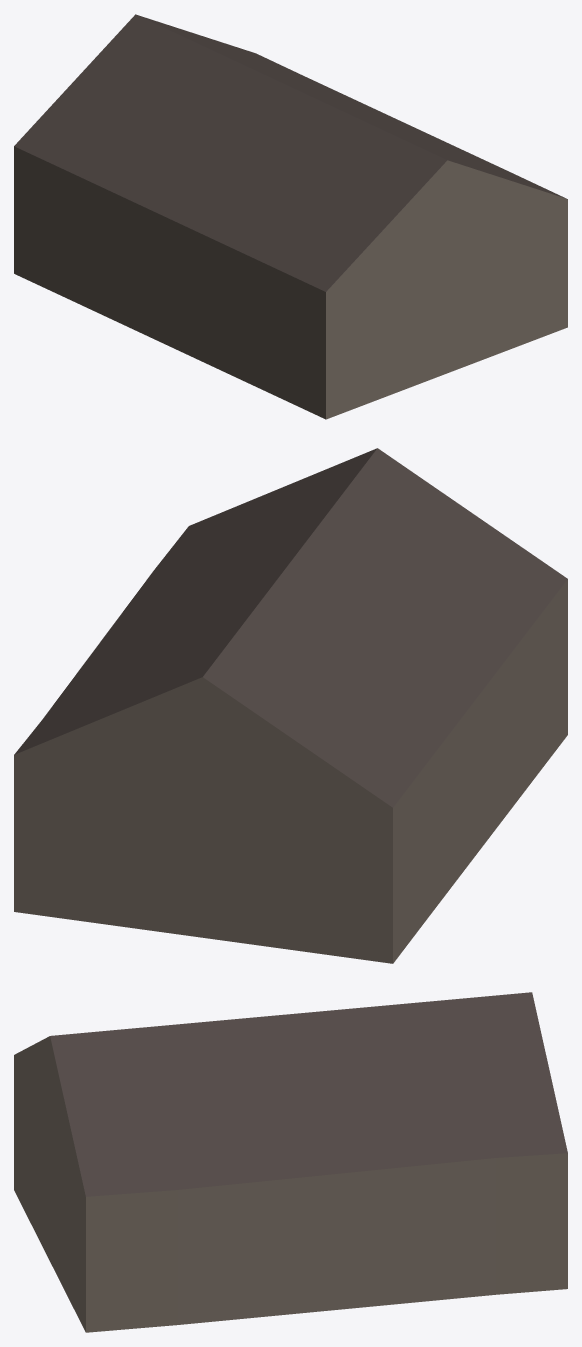
The picture shows the model from 3 angles, top to bottom: view 1: azimuth 30°, elevation 25°; view 2: azimuth 150°, elevation 25°; view 3: azimuth 270°, elevation 25°; orthographic projection. The views are drawn at different scales.
Parts seen in each view (by area): view 1: HP-w1376988857; view 2: HP-w1376988857; view 3: HP-w1376988857.
Boxes of the visible parts, x1,y1,x2,y2 form: HP-w1376988857: (14,14,567,419); HP-w1376988857: (14,448,567,963); HP-w1376988857: (14,992,567,1332).
Size of the model in its own units: 17.75 by 10.03 by 22.3.
